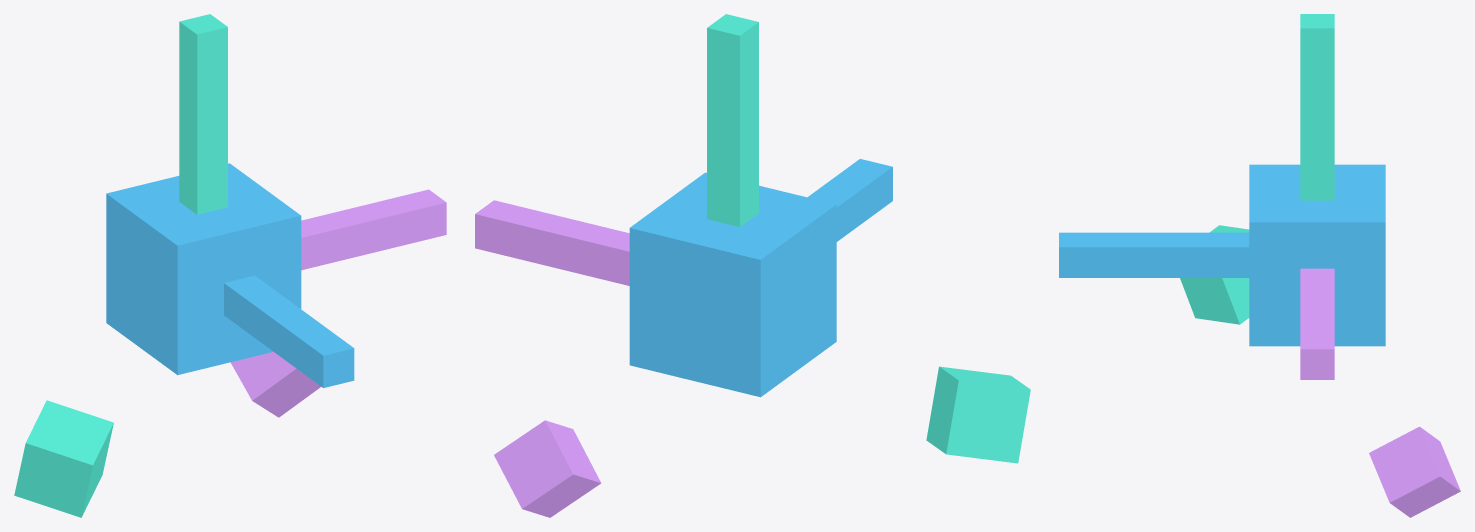
Rendered from AxisSculpture.glb.
3 views of the same model, side by side, from view 1: azimuth 30°, elevation 25°; view 2: azimuth 150°, elevation 25°; view 3: azimuth 270°, elevation 25° (orthographic). The views are drawn at different scales.
Visible parts, largest first — view 1: Core, Y Axis, Mint Satellite, Z Axis, X Axis, Violet Satellite; view 2: Core, Y Axis, X Axis, Mint Satellite, Violet Satellite, Z Axis; view 3: Core, Z Axis, Y Axis, Violet Satellite, X Axis, Mint Satellite.
Boxes of the visible parts, x1,y1,x2,y2 form: Core: [106, 163, 301, 375]; Y Axis: [179, 14, 227, 214]; Mint Satellite: [14, 400, 113, 517]; Z Axis: [224, 275, 354, 387]; X Axis: [301, 189, 446, 270]; Violet Satellite: [230, 352, 320, 417]; Core: [629, 172, 836, 397]; Y Axis: [707, 14, 758, 226]; X Axis: [475, 200, 629, 285]; Mint Satellite: [926, 366, 1030, 463]; Violet Satellite: [494, 420, 601, 517]; Z Axis: [807, 159, 892, 241]; Core: [1249, 164, 1385, 346]; Z Axis: [1059, 232, 1249, 277]; Y Axis: [1300, 14, 1334, 200]; Violet Satellite: [1369, 426, 1460, 517]; X Axis: [1300, 268, 1334, 379]; Mint Satellite: [1180, 225, 1249, 324].
Size of the model in its own units: 1.05 by 0.9935 by 0.8244.
